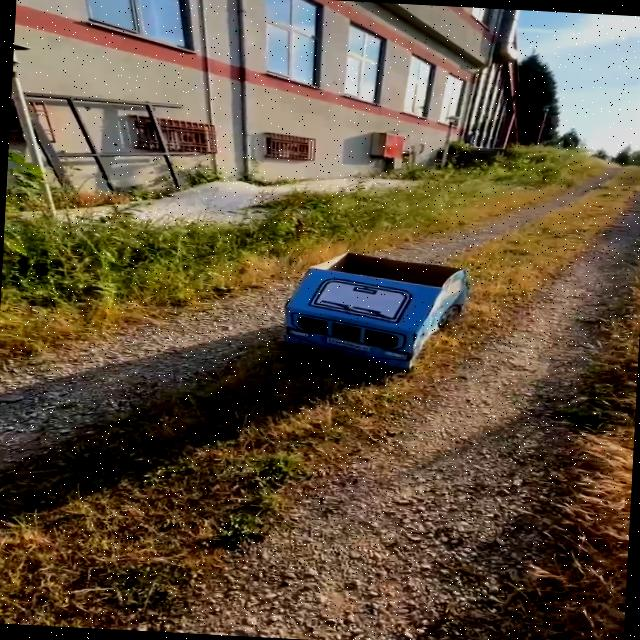blue_car: (238, 231, 495, 409)
